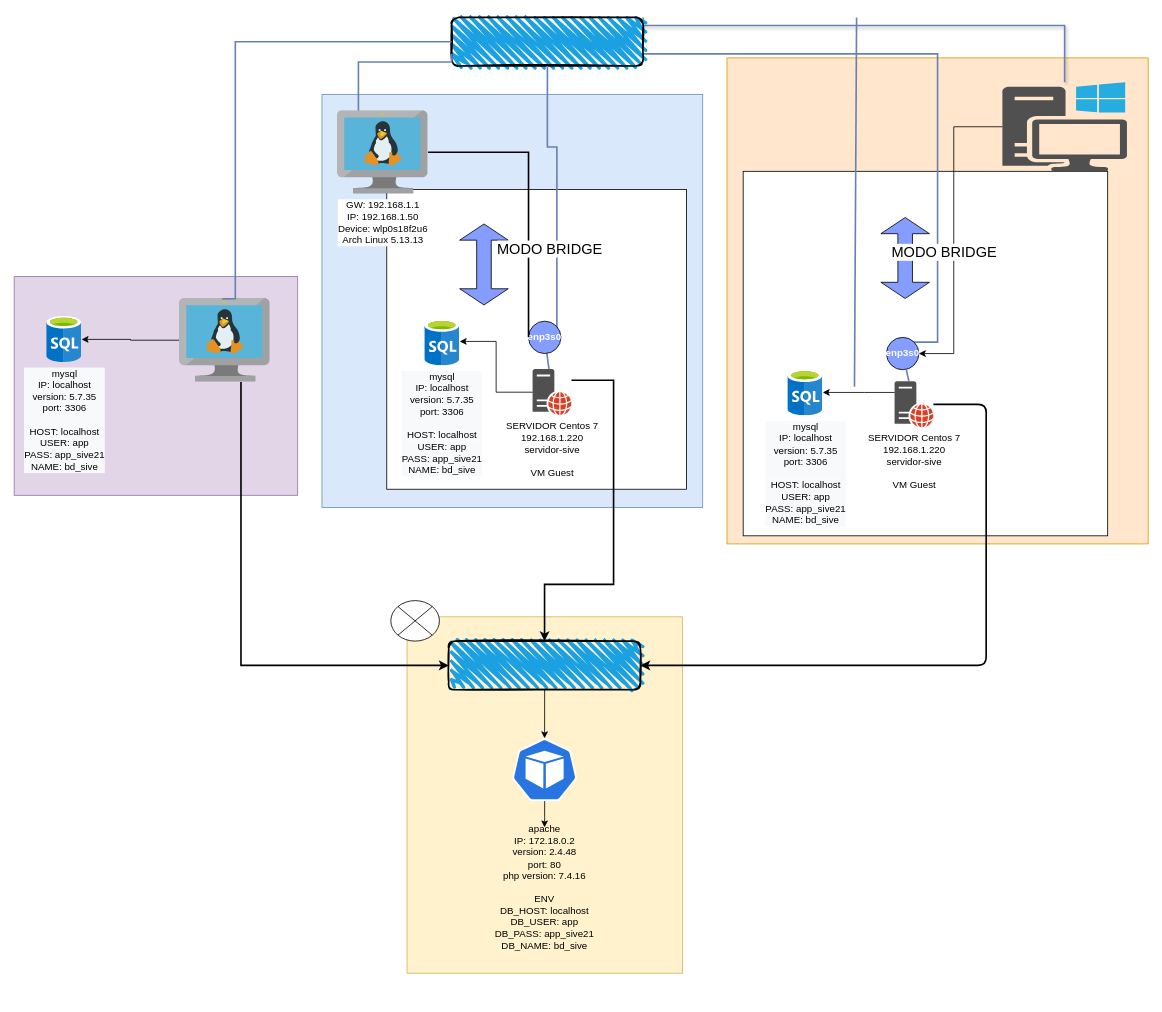
Some shapes in this 1162 by 1012 pixel diagram are drawn without their labels. Here are the shapes that lost their labels. From the top down, the centre of each, then its label:
At pixel 547 41: "LAN: 192.168.1.0/24".
At pixel 1064 126: "VM HOST ip:192.168.1.100/24 Gw:192.168.1.1".
At pixel 224 340: "GW: 192.168.1.1 IP: 192.168.1.45 Device: wlp2s0 Ubuntu 18.04.5 LTS".
At pixel 544 665: "RED INTERNA DOCKER 172.18.0.0/24".
